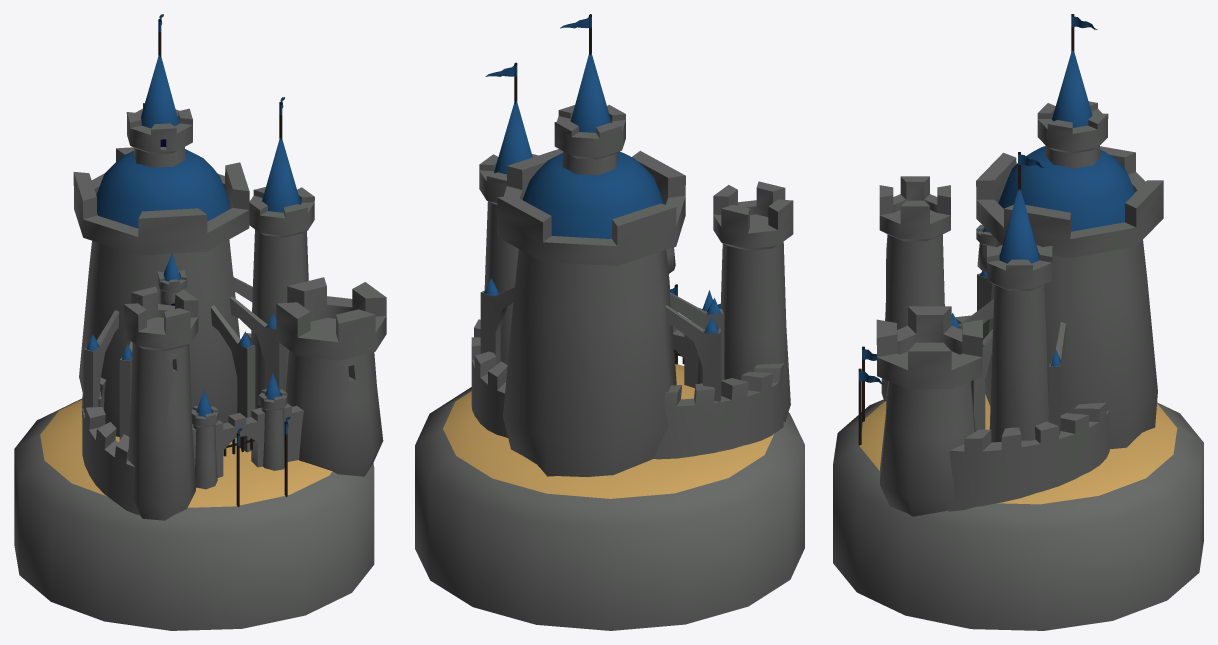
Rendered from Keep.FBX.
3 views of the same model, side by side, from view 1: azimuth 30°, elevation 25°; view 2: azimuth 150°, elevation 25°; view 3: azimuth 270°, elevation 25° (orthographic). The views are drawn at different scales.
Parts seen in each view (by area): view 1: keep; view 2: keep; view 3: keep.
Boxes of the visible parts, x1=… form: keep: x1=14, y1=14, x2=386, y2=630; keep: x1=415, y1=14, x2=804, y2=630; keep: x1=833, y1=14, x2=1203, y2=630.
Bounding box in the file's own units: 147 × 233 × 147.
